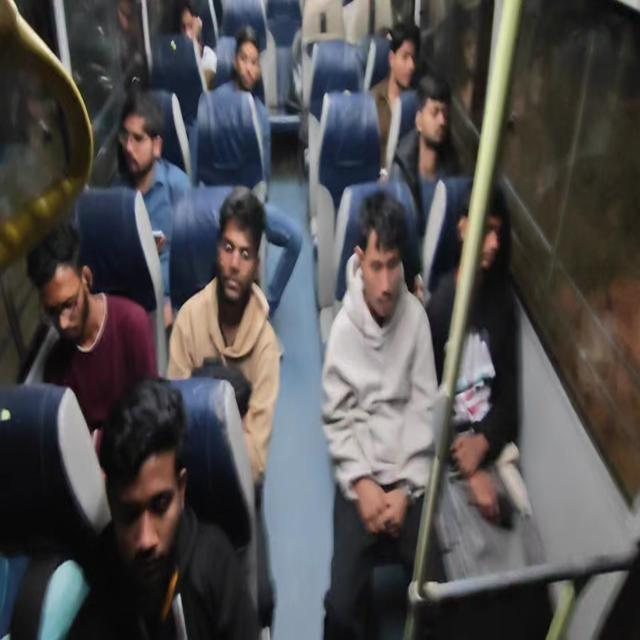person: (99, 389, 192, 581), (26, 232, 106, 356), (358, 181, 412, 332), (448, 177, 512, 281), (215, 192, 262, 316), (116, 90, 163, 185), (232, 20, 269, 104), (416, 74, 447, 154), (388, 18, 420, 91), (173, 1, 206, 56)
